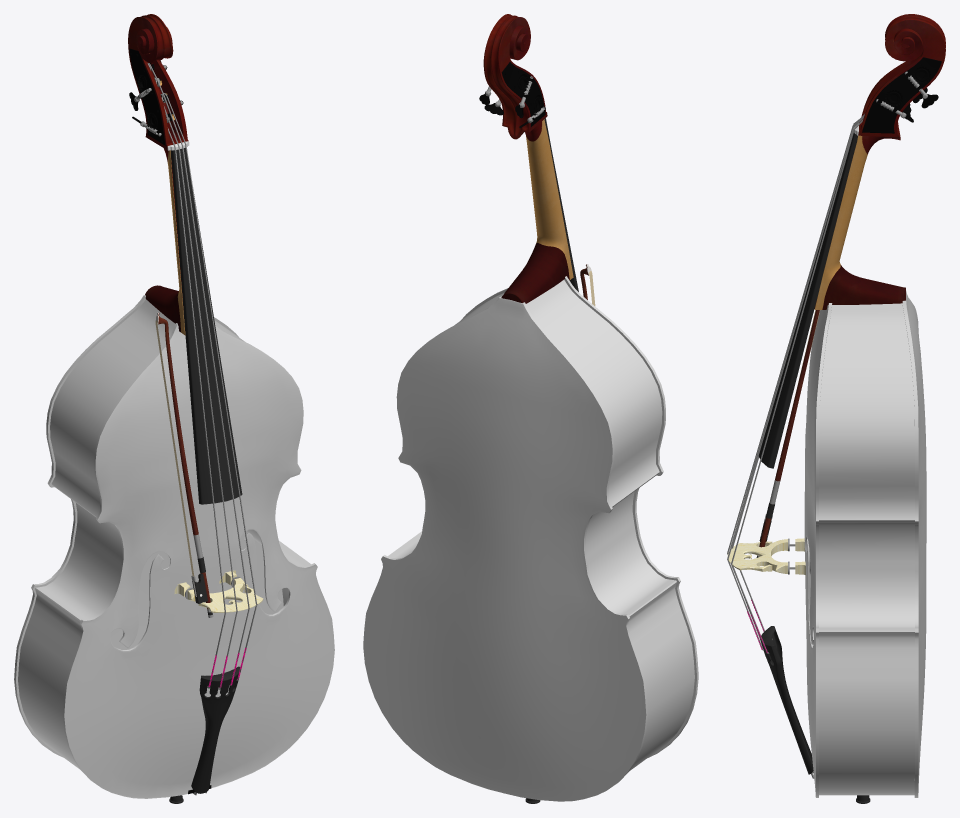
File: doublebass.glb
The picture shows the model from 3 angles, left to right: view 1: azimuth 30°, elevation 25°; view 2: azimuth 150°, elevation 25°; view 3: azimuth 270°, elevation 25°; orthographic projection. The views are drawn at different scales.
Parts seen in each view (by area): view 1: arch67_14_14, arch67_14_11, arch67_14_06, arch67_14_10, arch67_14_07, arch67_14_13, arch67_14_04, arch67_14_01; view 2: arch67_14_14, arch67_14_06, arch67_14_07; view 3: arch67_14_14, arch67_14_06, arch67_14_11, arch67_14_10, arch67_14_07, arch67_14_13, arch67_14_04.
Part boxes in pixels (x1,y1,x2,y2): arch67_14_14: [14, 295, 334, 798]; arch67_14_11: [169, 147, 242, 803]; arch67_14_06: [128, 14, 188, 335]; arch67_14_10: [134, 63, 257, 795]; arch67_14_07: [129, 48, 183, 145]; arch67_14_13: [174, 570, 263, 612]; arch67_14_04: [158, 312, 210, 609]; arch67_14_01: [155, 320, 194, 576]; arch67_14_14: [363, 276, 698, 801]; arch67_14_06: [483, 14, 573, 303]; arch67_14_07: [479, 61, 545, 128]; arch67_14_14: [804, 290, 926, 797]; arch67_14_06: [814, 14, 945, 309]; arch67_14_11: [758, 133, 870, 803]; arch67_14_10: [727, 71, 927, 778]; arch67_14_07: [862, 57, 941, 133]; arch67_14_13: [727, 538, 806, 576]; arch67_14_04: [759, 310, 819, 547].
Bounding box in the file's own units: 0.7022 × 1.9 × 0.4808.
10 materials, 3 textured.
